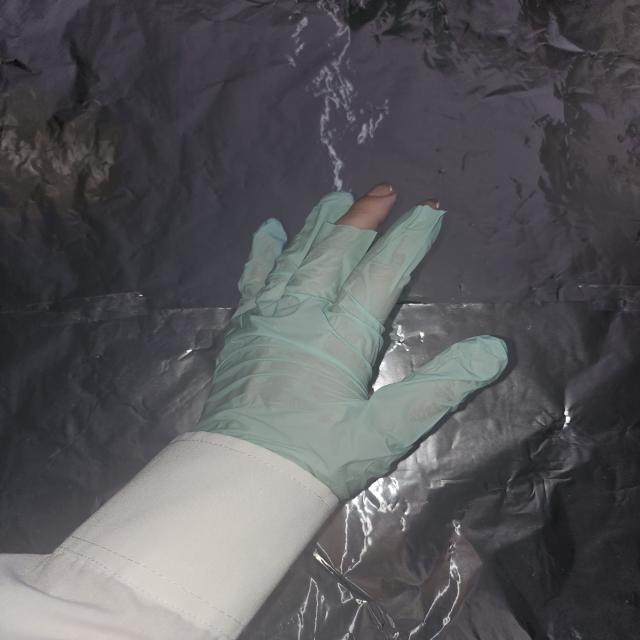gloves_damaged: (180, 182, 527, 504)
